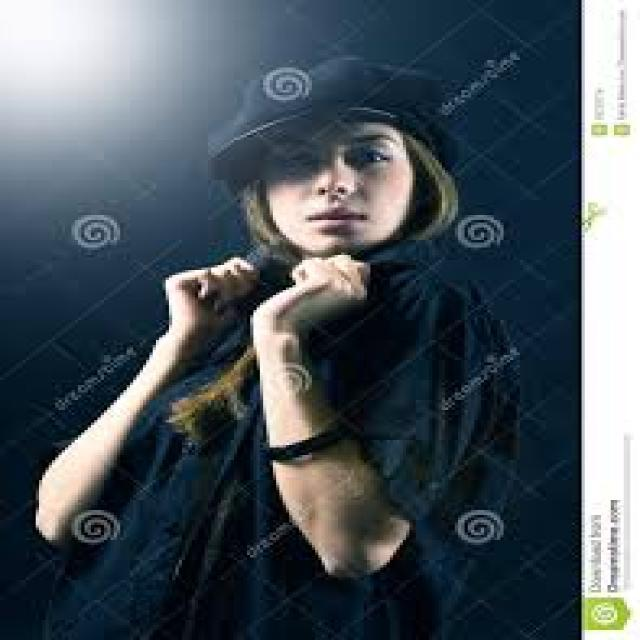cap: (184, 44, 474, 170)
